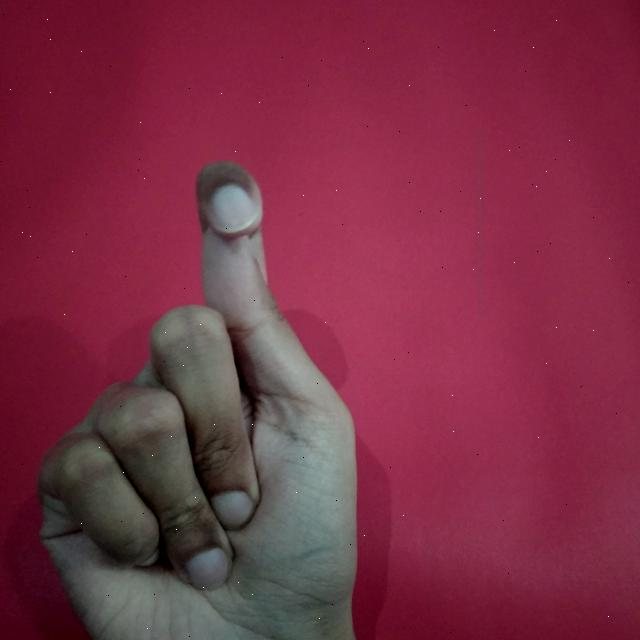T: (31, 151, 371, 640)
